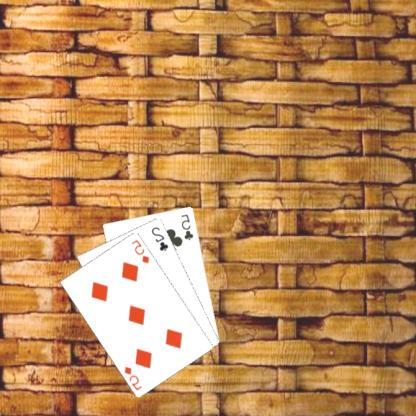2C: (150, 224, 172, 252)
5C: (180, 211, 197, 241)
5D: (130, 236, 153, 264), (124, 363, 145, 392)
